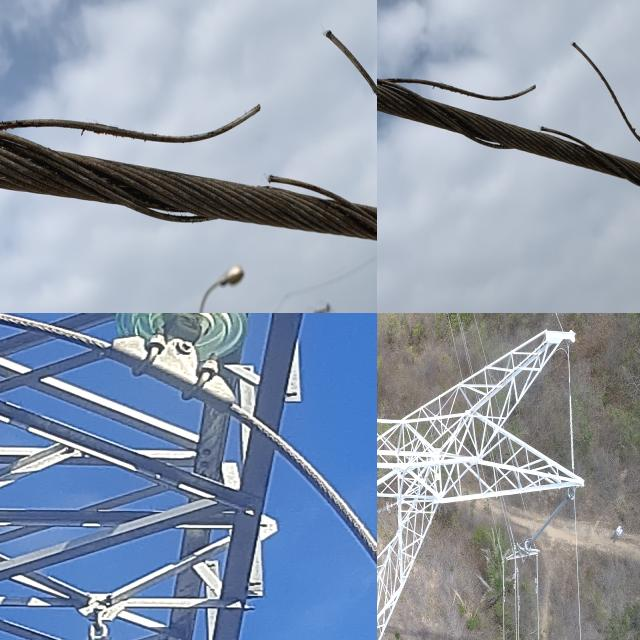杆塔: (0, 313, 296, 640), (377, 313, 575, 640)
正常绝缘子: (108, 313, 243, 363), (524, 486, 575, 552), (377, 498, 392, 521)
电缆破损: (0, 20, 377, 261), (377, 24, 640, 201)
